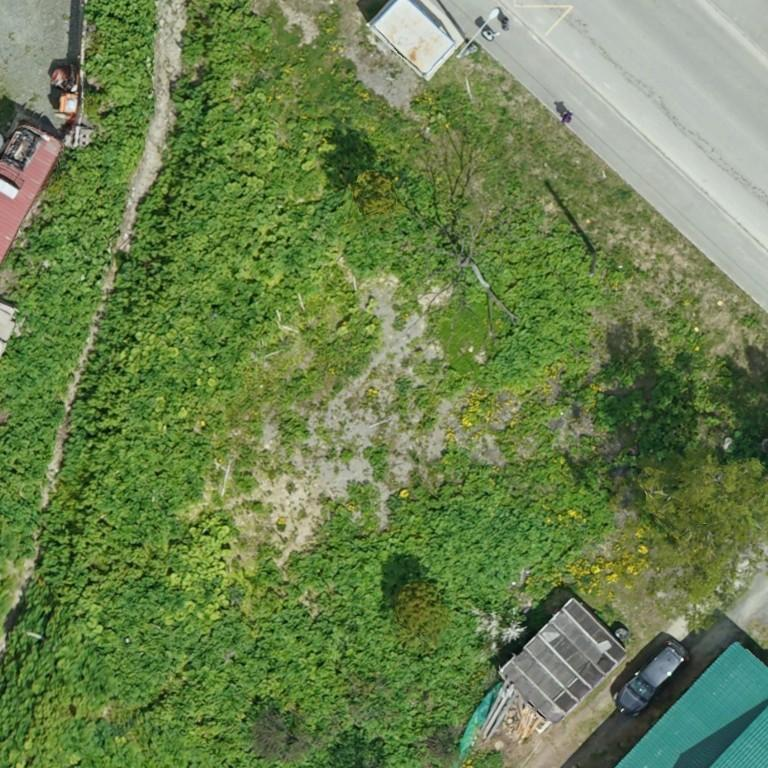hogweed: (0, 1, 464, 767), (0, 0, 153, 624), (253, 482, 565, 720), (480, 233, 594, 381)
